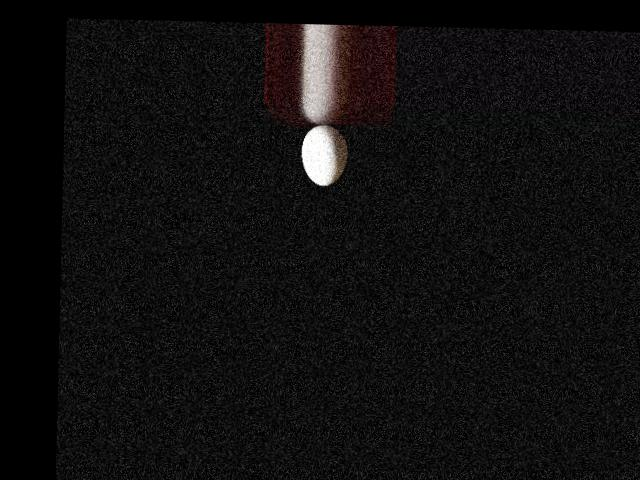egg: (300, 123, 346, 185)
